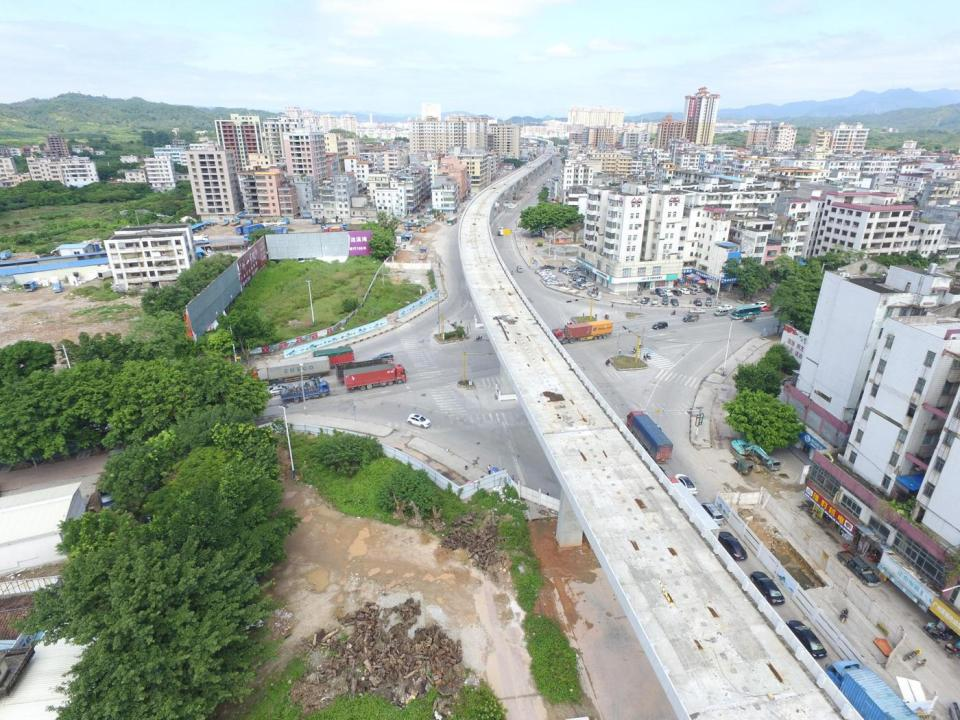bus: (731, 304, 761, 320), (446, 217, 457, 226)
car: (786, 619, 828, 658), (750, 572, 786, 605), (718, 532, 747, 562), (673, 473, 697, 495), (700, 500, 722, 524), (407, 414, 431, 428), (372, 352, 394, 365), (268, 384, 288, 395), (652, 322, 668, 330), (752, 301, 766, 309), (761, 304, 774, 312), (689, 308, 706, 314), (656, 288, 666, 297), (678, 287, 689, 295), (718, 304, 732, 310), (572, 284, 584, 291), (587, 290, 597, 298), (546, 280, 559, 286), (703, 288, 714, 295), (582, 281, 594, 287), (533, 230, 544, 236), (662, 290, 672, 296), (642, 297, 650, 304), (672, 290, 681, 296), (662, 296, 668, 305), (693, 300, 702, 306), (671, 299, 678, 306), (652, 296, 658, 304), (632, 297, 639, 303)
truck: (823, 659, 925, 720), (660, 478, 718, 553), (244, 355, 332, 388), (625, 412, 672, 464), (343, 362, 406, 392), (837, 549, 883, 587), (548, 318, 612, 345), (335, 357, 397, 382), (304, 346, 356, 370), (280, 379, 329, 404), (244, 223, 265, 233), (321, 222, 346, 230), (237, 223, 251, 236), (24, 280, 38, 291), (188, 234, 210, 241), (322, 226, 344, 233), (265, 228, 288, 234), (683, 314, 699, 322), (0, 249, 11, 260), (418, 247, 427, 260), (52, 282, 61, 295), (540, 265, 555, 270), (498, 226, 504, 236), (706, 297, 712, 306)
van: (762, 454, 780, 471), (691, 284, 702, 293), (715, 309, 728, 316), (689, 287, 698, 294), (559, 266, 568, 272), (517, 266, 522, 272)
